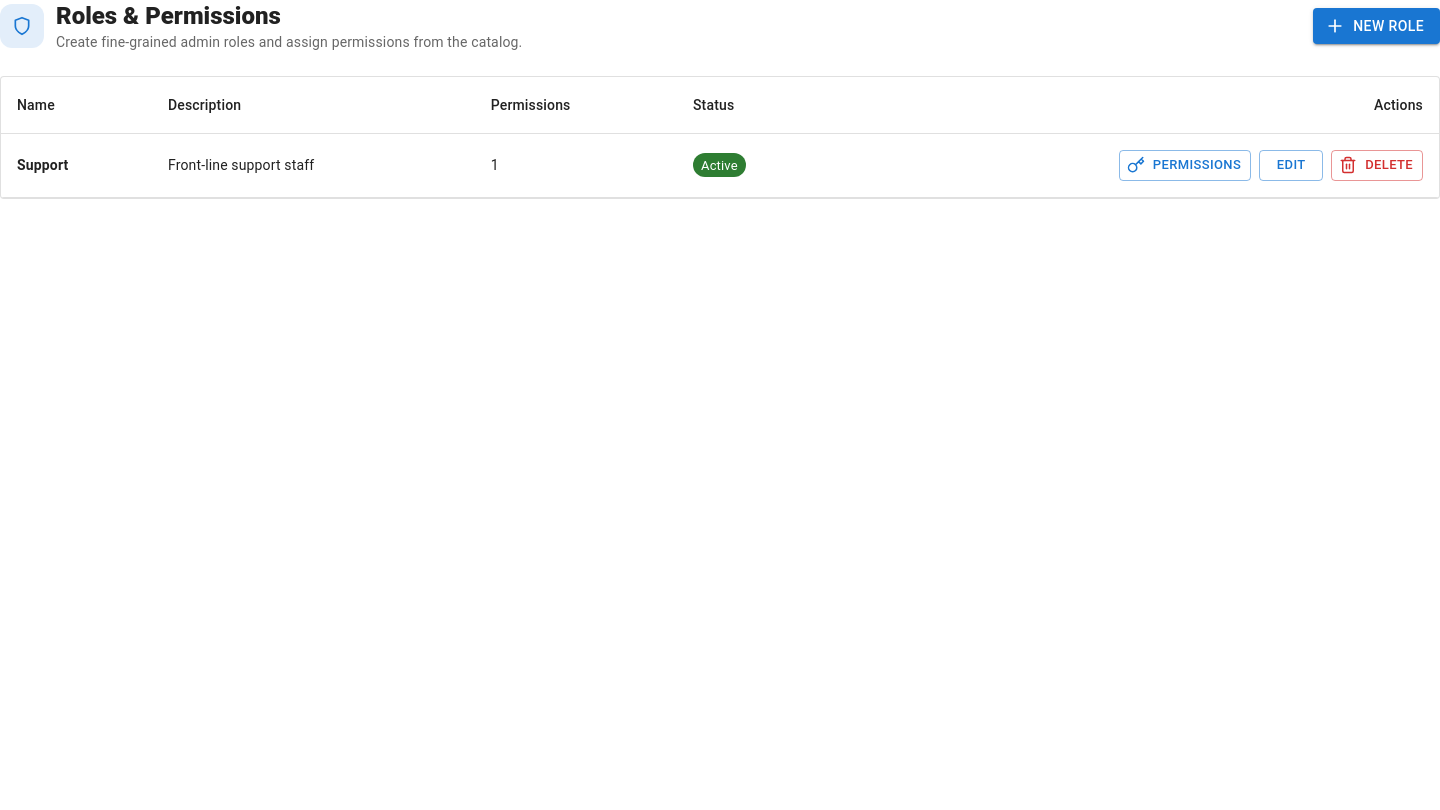
Admin RolesPermissions.page › edits a role via the Edit dialog
Expected: the text "Support" is shown, [1,134,152,197]
Click the button "Edit" at (1291, 165), box [1259,150,1323,181]
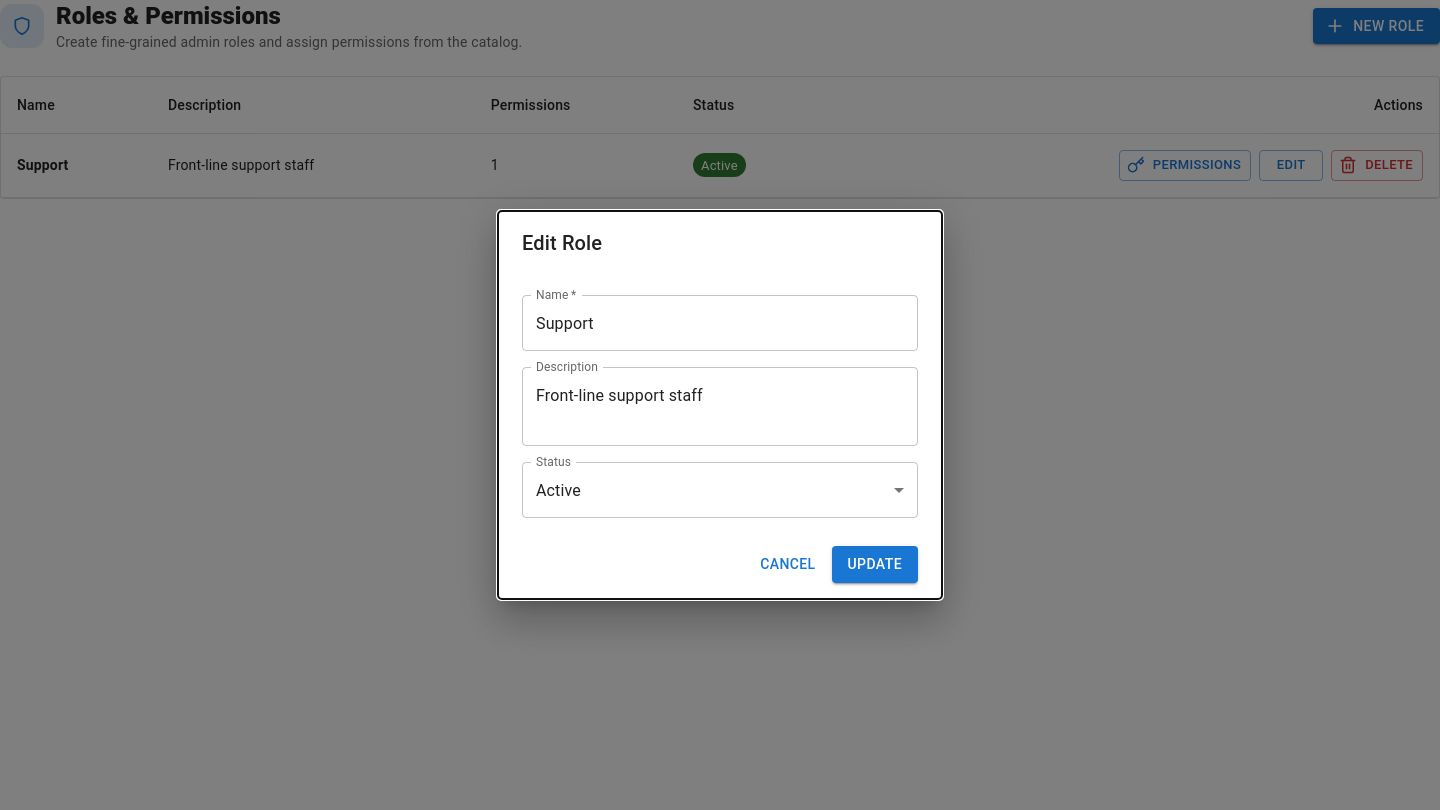
Expected: the heading "Edit Role" is shown, [522,231,602,255]
Expected: the field labelled "Name *" holds "Support"
Replace the text in the field labelled "Name *" with "Support Lead" at (720, 323), box [522,295,918,351]
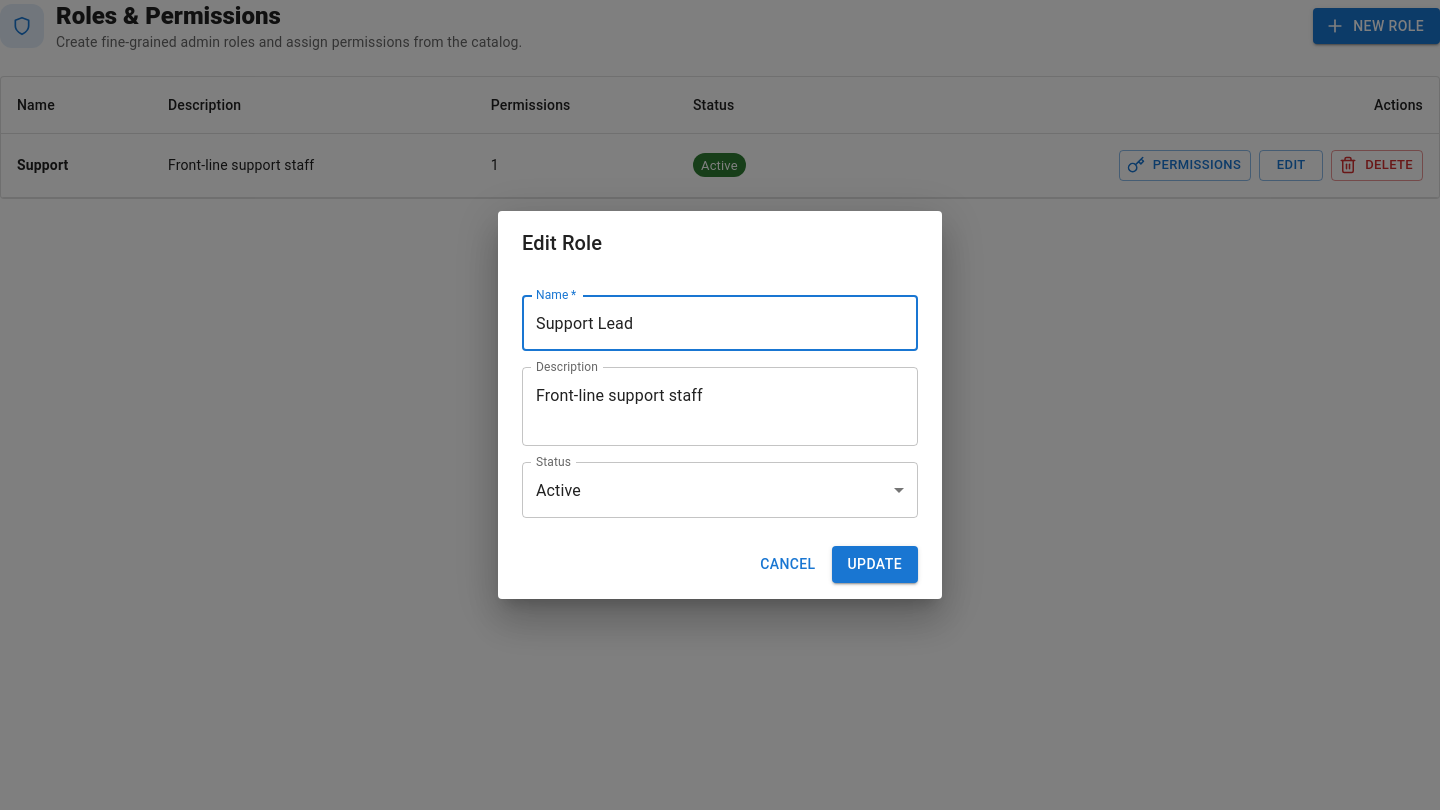
Click the button "Update" at (875, 565), box [832,546,918,583]
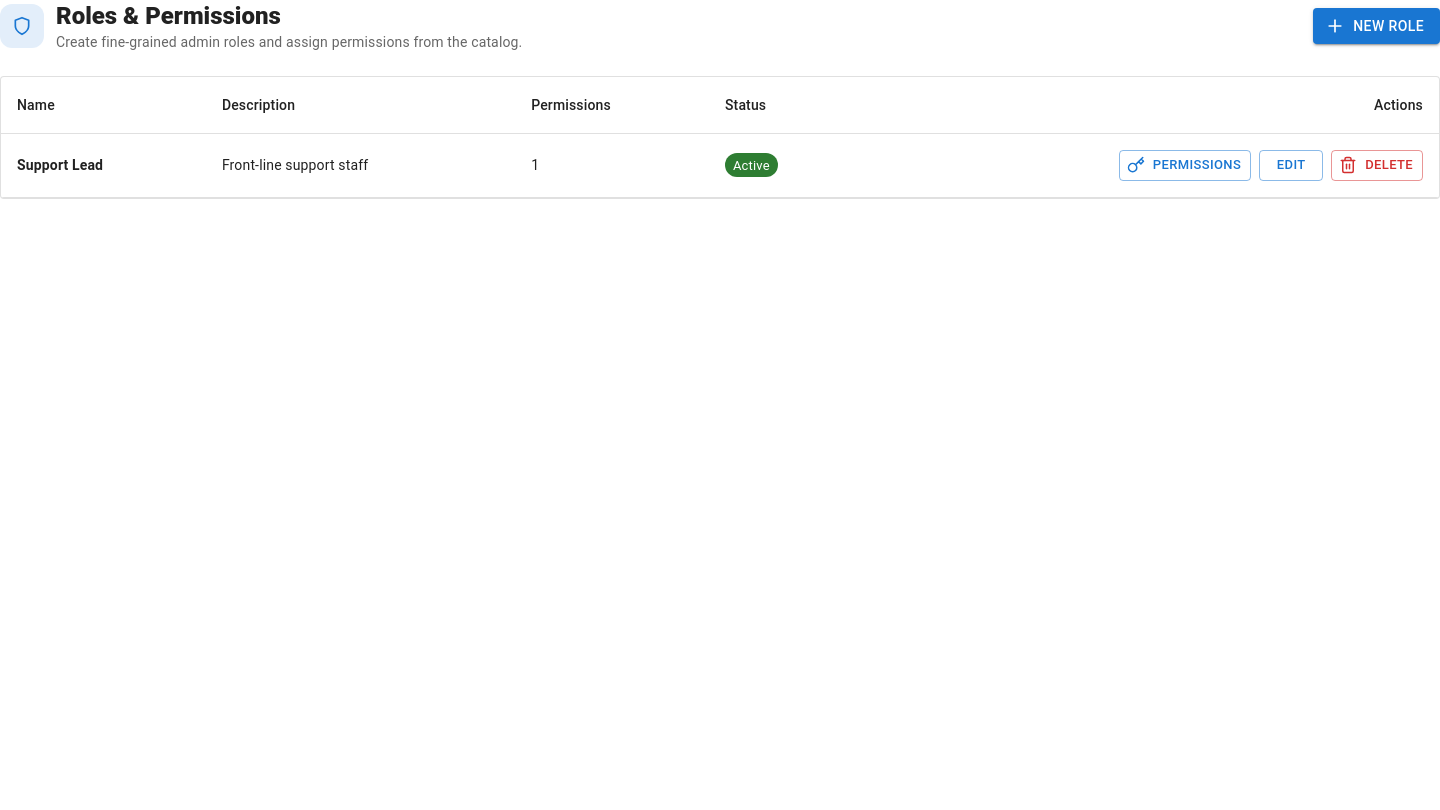
Expected: the text "Support Lead" is shown, [1,134,206,197]
